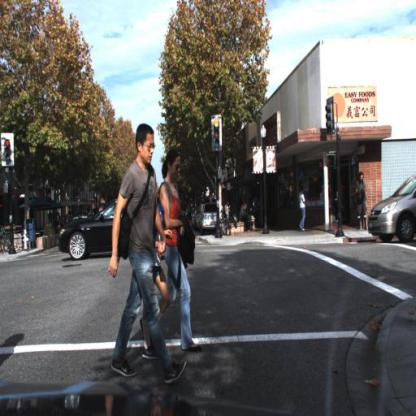car: (57, 197, 133, 265), (361, 165, 414, 247)
pedestrian: (108, 123, 184, 387), (157, 148, 195, 354), (292, 179, 313, 235), (354, 173, 370, 231), (238, 198, 254, 237)
trafficLight: (210, 111, 225, 154), (2, 129, 15, 171)
